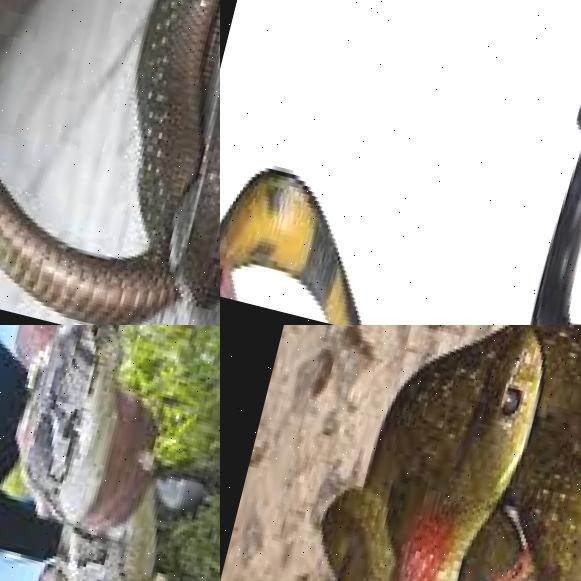snake: (220, 0, 581, 325), (243, 325, 581, 581), (0, 0, 220, 325), (0, 325, 220, 581)
